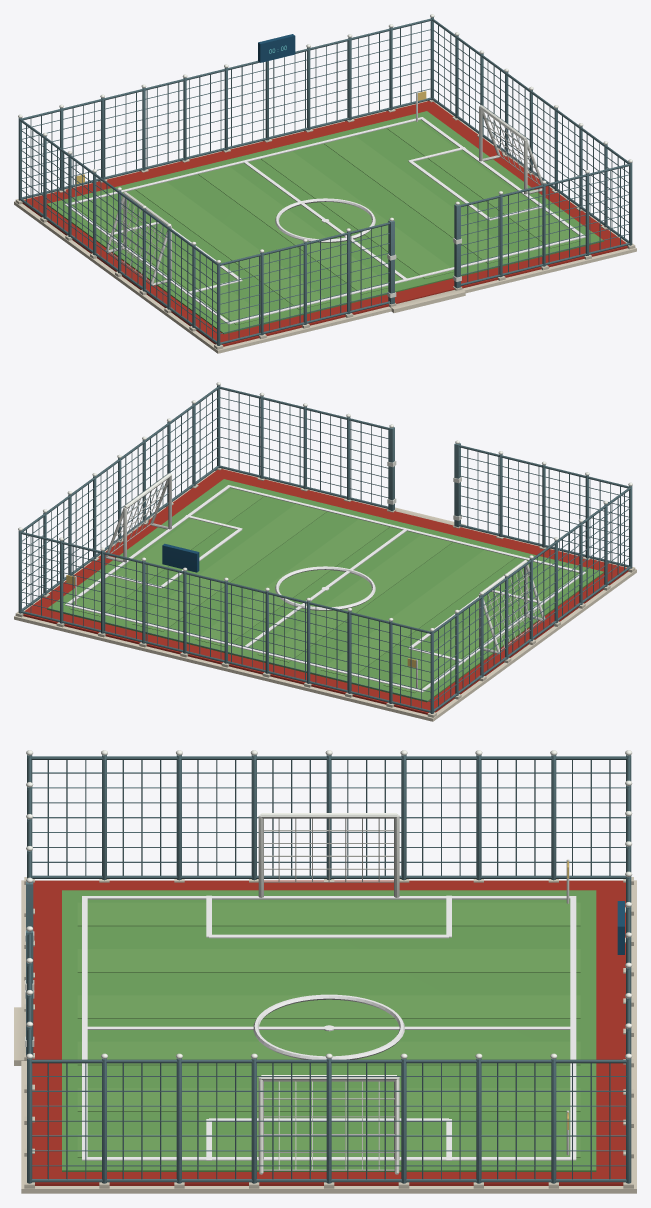
The model's file is football-field.glb.
3 renders of one model, top to bottom at view 1: azimuth 30°, elevation 25°; view 2: azimuth 150°, elevation 25°; view 3: azimuth 270°, elevation 25°, orthographic. The views are drawn at different scales.
Parts seen in each view (by area): view 1: fence post, football turf, mown turf band, track edging, touchline, sports apron, goal upright, sports scoreboard; view 2: fence post, football turf, mown turf band, track edging, touchline, sports apron, goal upright, sports scoreboard; view 3: football turf, mown turf band, fence post, track edging, touchline, sports apron, goal upright.
Part boxes in pixels (bbox=[...]): fence post: bbox=[18, 17, 632, 345]; football turf: bbox=[47, 111, 603, 334]; mown turf band: bbox=[72, 121, 581, 324]; track edging: bbox=[22, 101, 627, 346]; touchline: bbox=[65, 117, 585, 324]; sports apron: bbox=[14, 100, 636, 353]; goal upright: bbox=[18, 14, 632, 297]; sports scoreboard: bbox=[258, 34, 295, 62]; fence post: bbox=[18, 385, 632, 713]; football turf: bbox=[47, 479, 603, 702]; mown turf band: bbox=[69, 488, 578, 692]; track edging: bbox=[23, 469, 628, 714]; touchline: bbox=[65, 485, 585, 692]; sports apron: bbox=[14, 468, 636, 721]; goal upright: bbox=[18, 382, 632, 688]; sports scoreboard: bbox=[162, 543, 199, 572]; football turf: bbox=[62, 890, 596, 1171]; mown turf band: bbox=[77, 902, 580, 1157]; fence post: bbox=[26, 755, 631, 1183]; track edging: bbox=[32, 880, 625, 1185]; touchline: bbox=[82, 895, 576, 1160]; sports apron: bbox=[14, 877, 636, 1193]; goal upright: bbox=[25, 750, 632, 1174].
Bounding box in the file's own units: 7 × 1.7 × 5.97.
